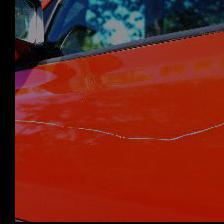door_scratch: (17, 100, 224, 151)
